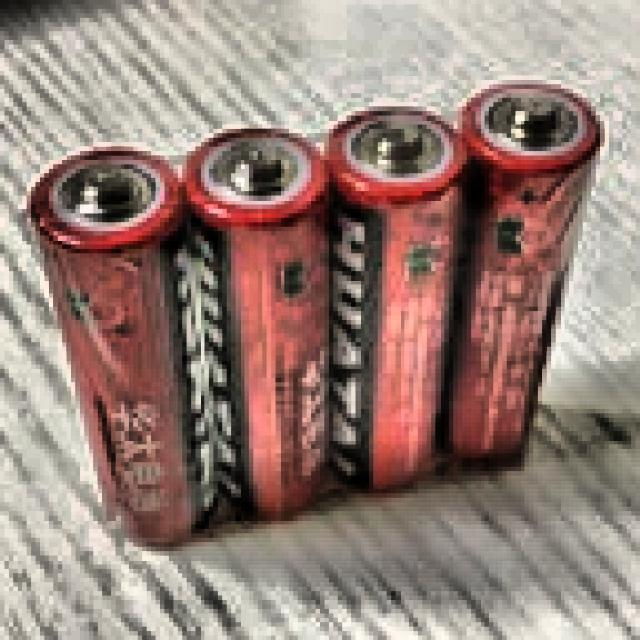Non-Valuable Waste - Batteries: (29, 148, 216, 545), (446, 83, 600, 461), (184, 129, 327, 516), (327, 106, 468, 490)
